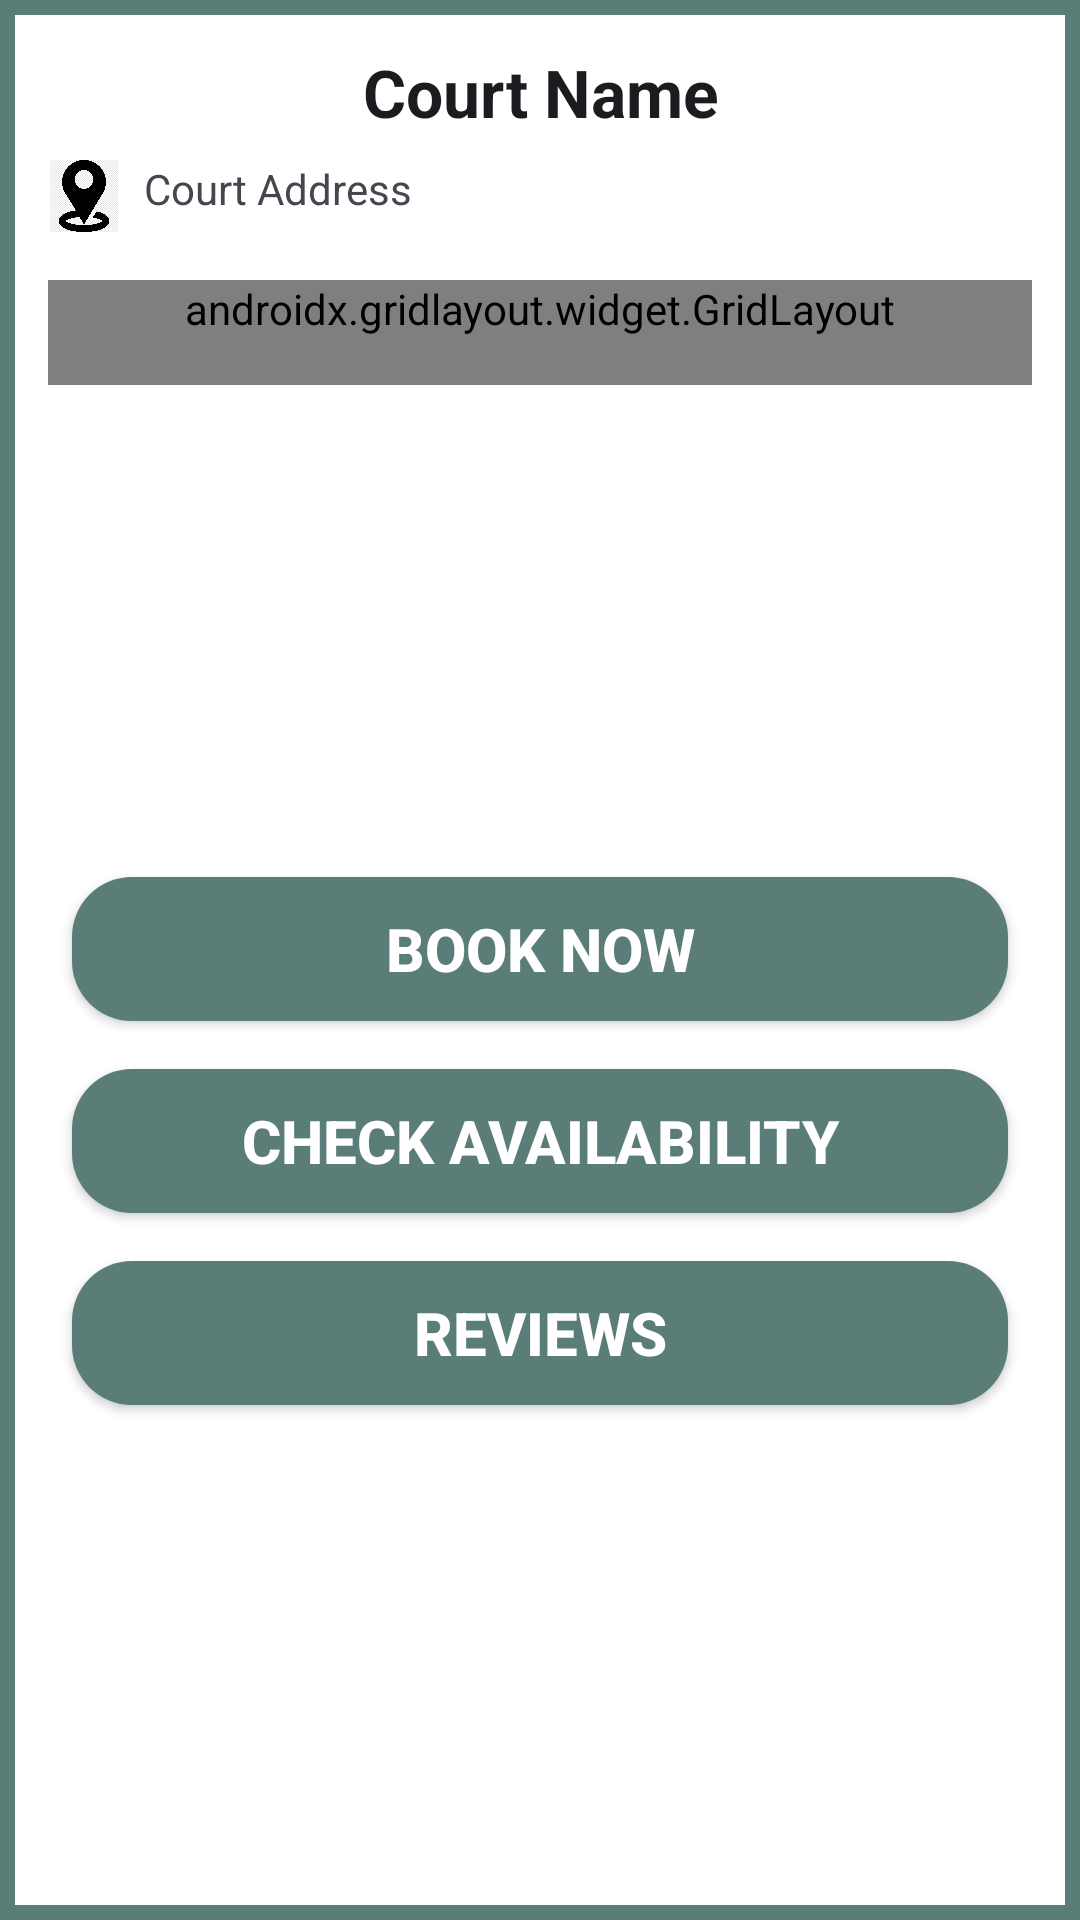

Named icons in this screenshot (1080 × 1920) and their bounding boxes, (x1, y1, x2, y2):
Location Icon: (50, 160, 118, 232)
